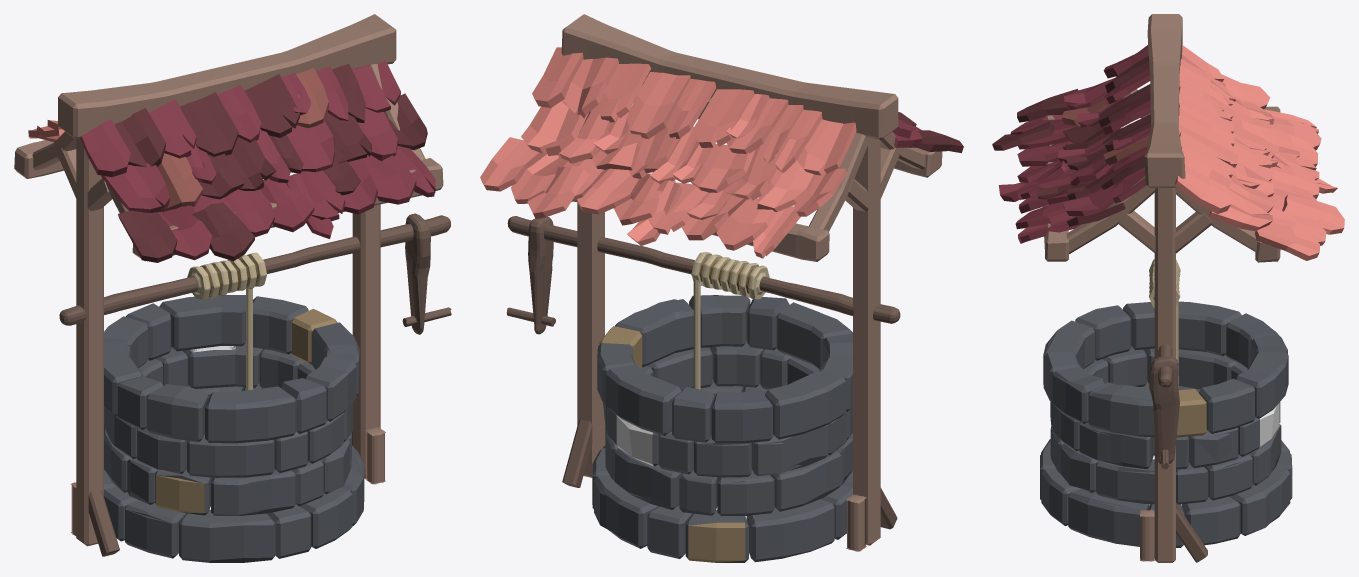
File: well.fbx
3 views of the same model, side by side, from view 1: azimuth 30°, elevation 25°; view 2: azimuth 150°, elevation 25°; view 3: azimuth 270°, elevation 25° (orthographic). The views are drawn at different scales.
Parts seen in each view (by area): view 1: Plane.002_Plane.002; view 2: Plane.002_Plane.002; view 3: Plane.002_Plane.002.
Part boxes in pixels (x1,y1,x2,y2): Plane.002_Plane.002: (14, 14, 451, 562); Plane.002_Plane.002: (480, 14, 963, 562); Plane.002_Plane.002: (992, 14, 1344, 562).
Bounding box in the file's own units: 160 × 176 × 136.
